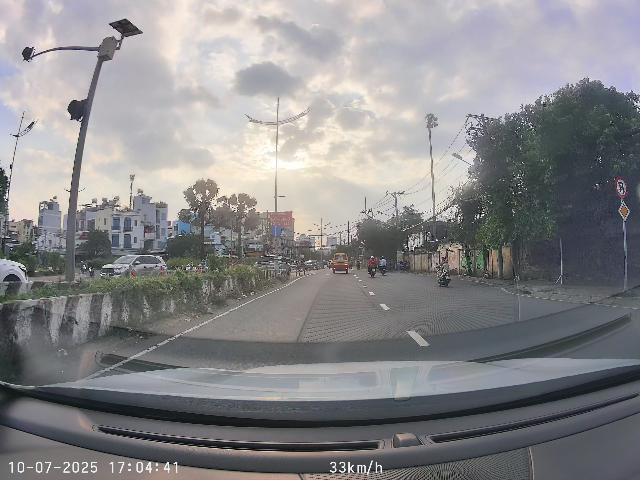124a-cam-quay-dau-xe: (614, 176, 629, 199)
301a-cac-xe-chi-duoc-di-thang: (270, 225, 281, 237)
